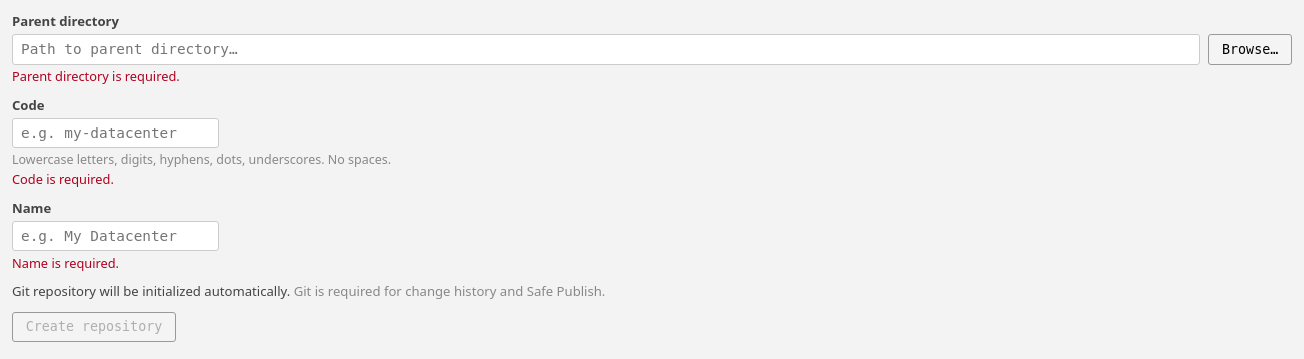
Test: CreateRepositoryWizard — path preview › shows path preview when both parent and code are filled
Type "/home/user/repos" into the field with placeholder "Path to parent directory…". click: (606,49)
box: [12, 34, 1200, 65]
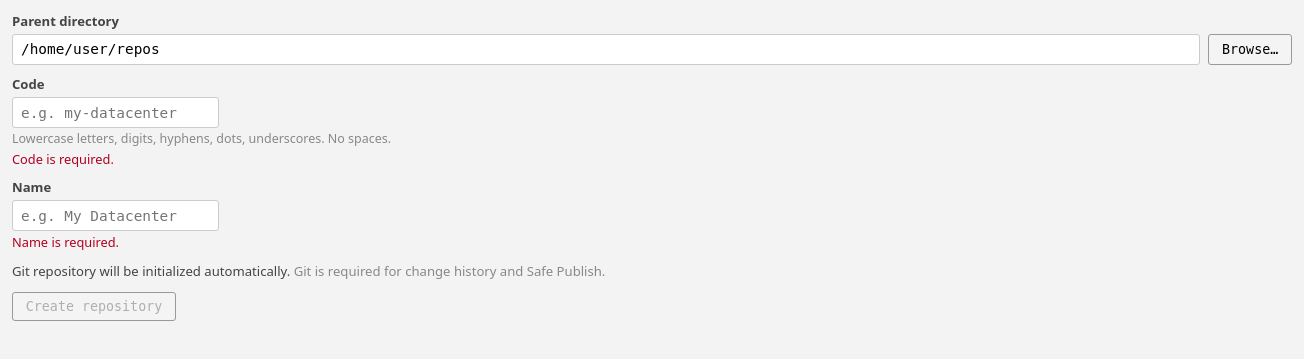
Type "my-dc" into the field with placeholder "e.g. my-datacenter". click: (116,113)
box: [12, 97, 219, 128]
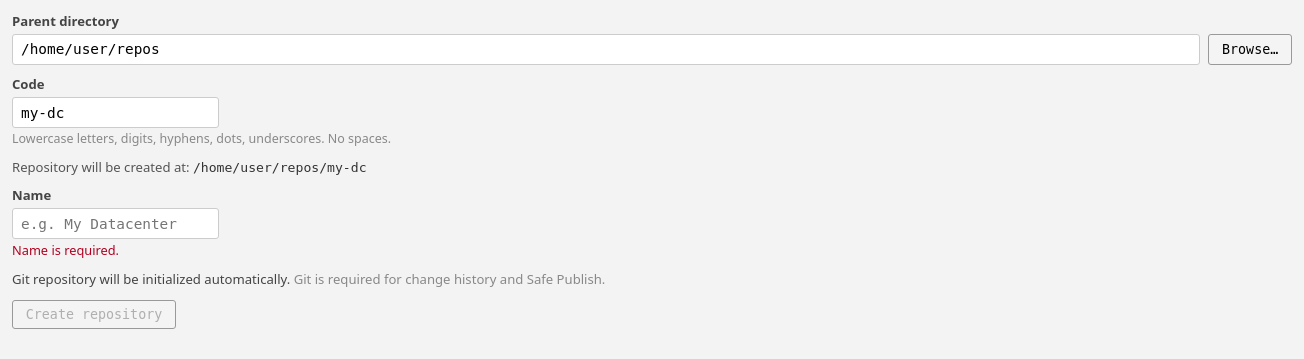
Result: the text "Repository will be created at: /home/user/repos/my-dc" is shown at [12, 158, 366, 176]
Result: the text "/home/user/repos/my-dc" is shown at [193, 160, 366, 175]
